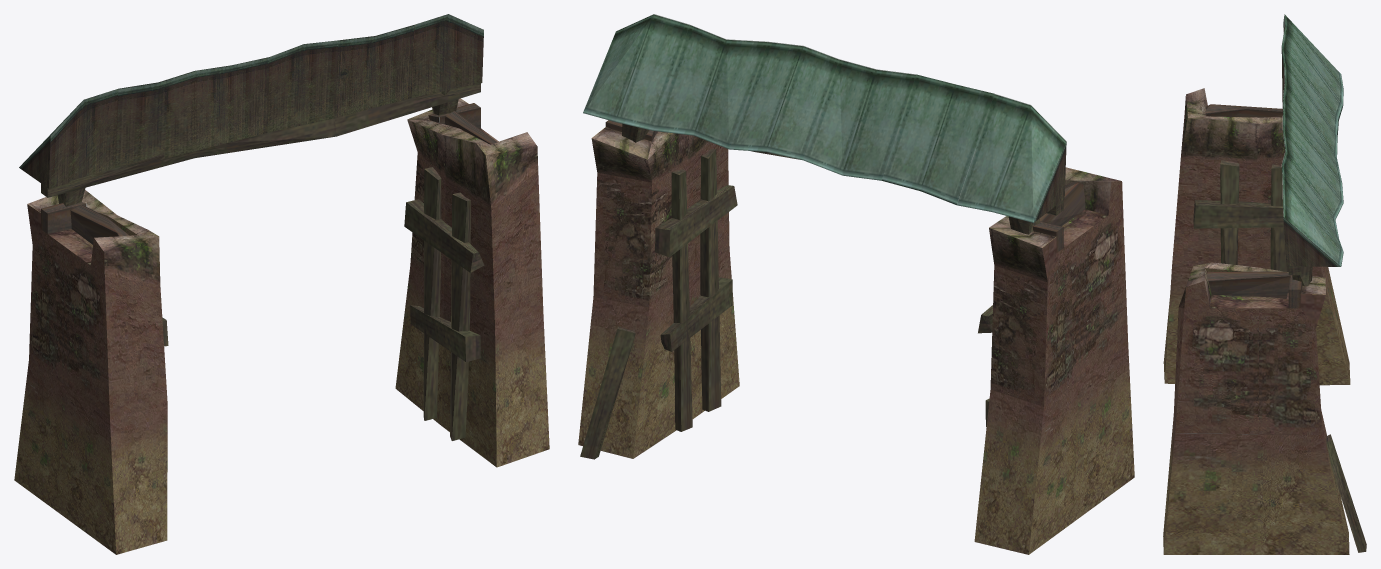
Rendered from C1SMWAVH.obj.
3 renders of one model, left to right at view 1: azimuth 30°, elevation 25°; view 2: azimuth 150°, elevation 25°; view 3: azimuth 270°, elevation 25°, orthographic. The views are drawn at different scales.
Parts seen in each view (by area): view 1: Node 0; view 2: Node 0; view 3: Node 0.
Boxes of the visible parts, x1,y1,x2,y2 form: Node 0: [14, 14, 549, 554]; Node 0: [578, 14, 1134, 554]; Node 0: [1163, 14, 1366, 554].
Size of the model in its own units: 15 by 13.44 by 6.7.
4 materials, 4 textured.
